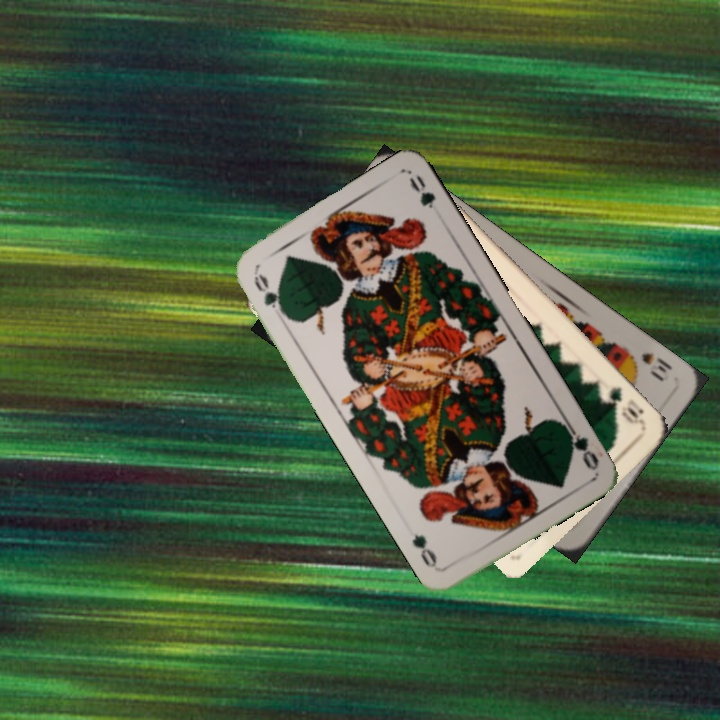G10: (605, 383, 647, 427)
GO: (557, 417, 601, 472), (249, 269, 290, 320)
S10: (622, 347, 675, 384)
